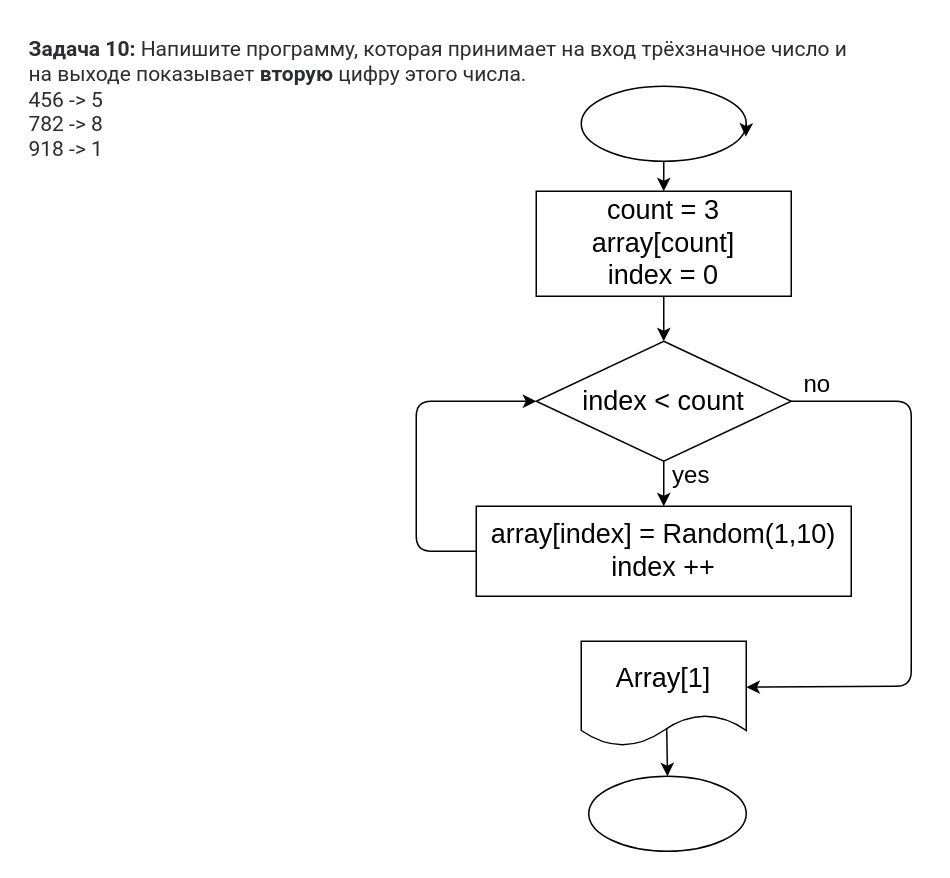
Some shapes in this 950 by 878 pixel diagram are drawn without their labels. Each missing label, with the centre of its shape:
"end" goes at (666,813).
"start" goes at (663,123).
